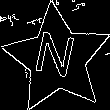N_S: (33, 30, 81, 88)
